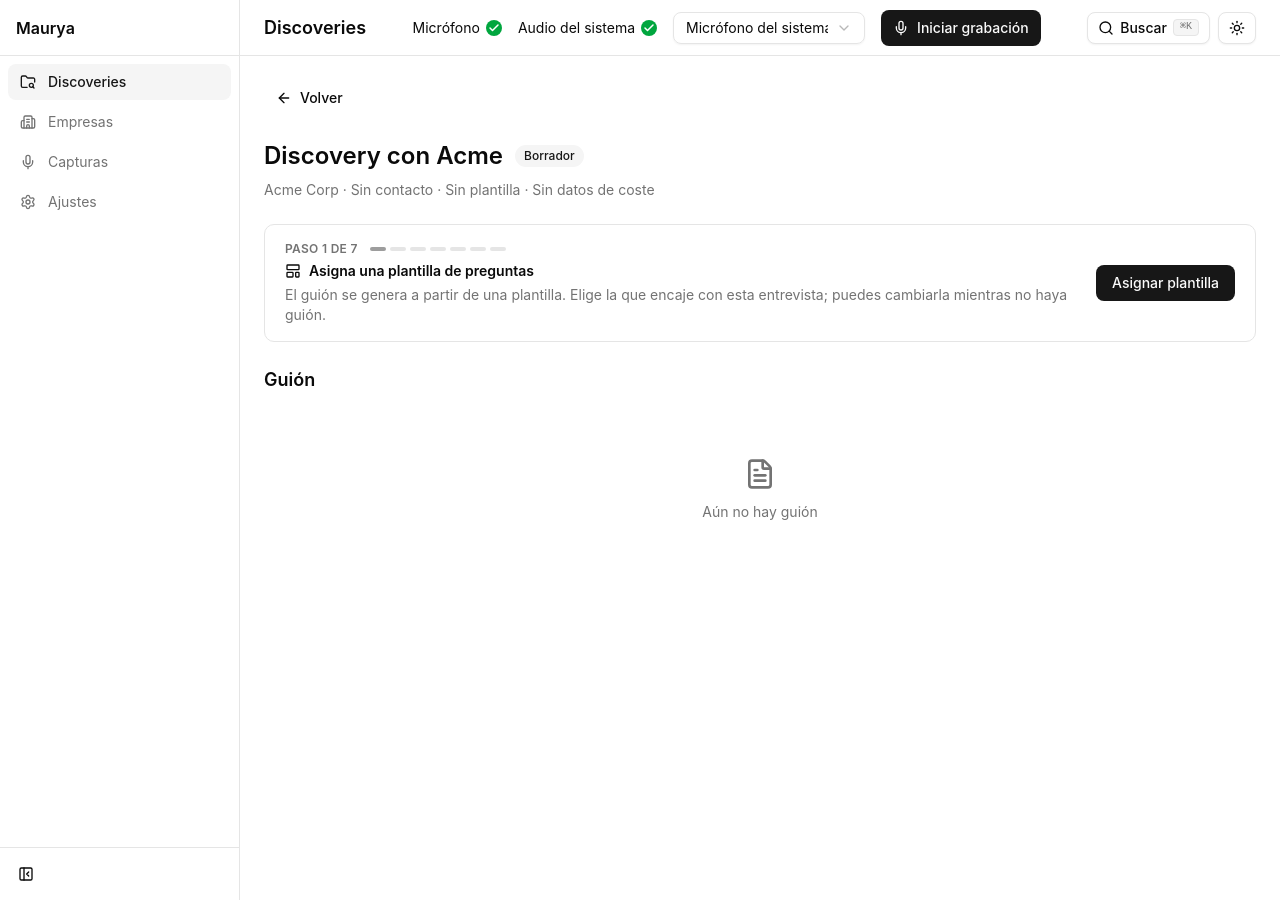
Test: DiscardReasonsDialog (motivos al finalizar SPEC-039) › opens the Preguntas descartadas dialog after stopping with each discarded question and an optional reason textarea
The image size is (1280, 900).
Click the button "Iniciar grabación": (961, 28) [881,10,1041,46]
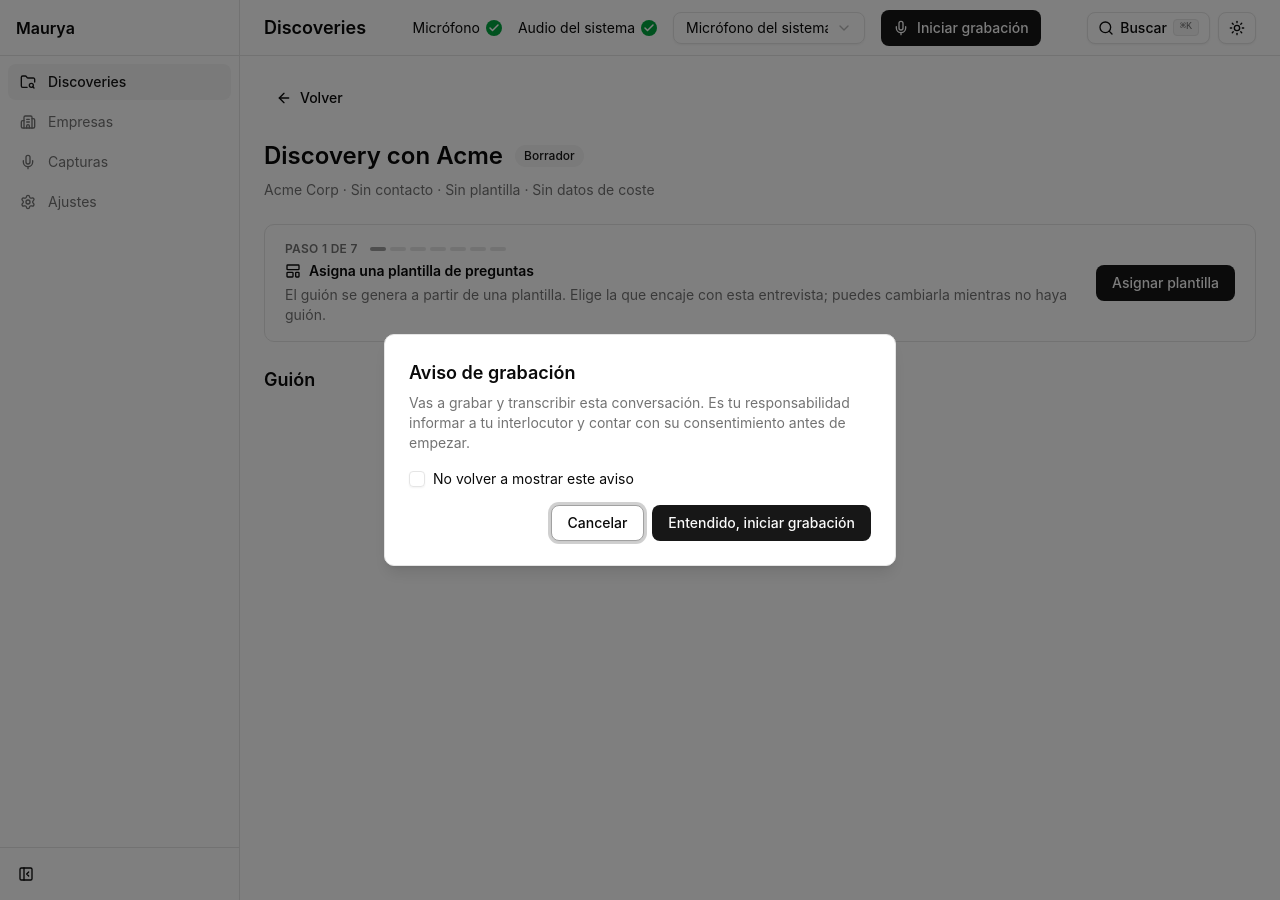
Click the button "Entendido, iniciar grabación": (762, 523) [652,505,871,541]
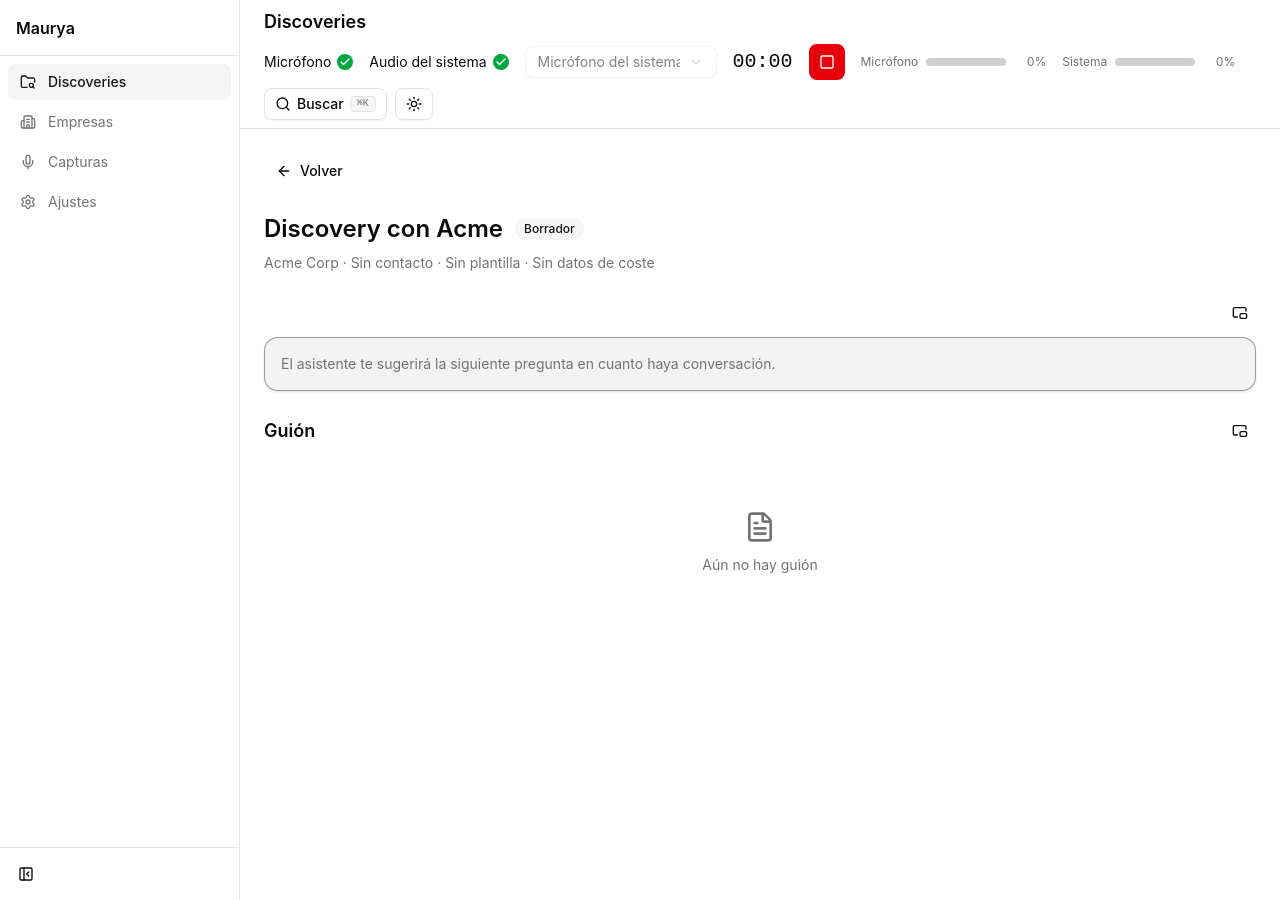
Check: the button named "Detener" is shown
Click the button named "Detener": (826, 62) [808,44,844,80]
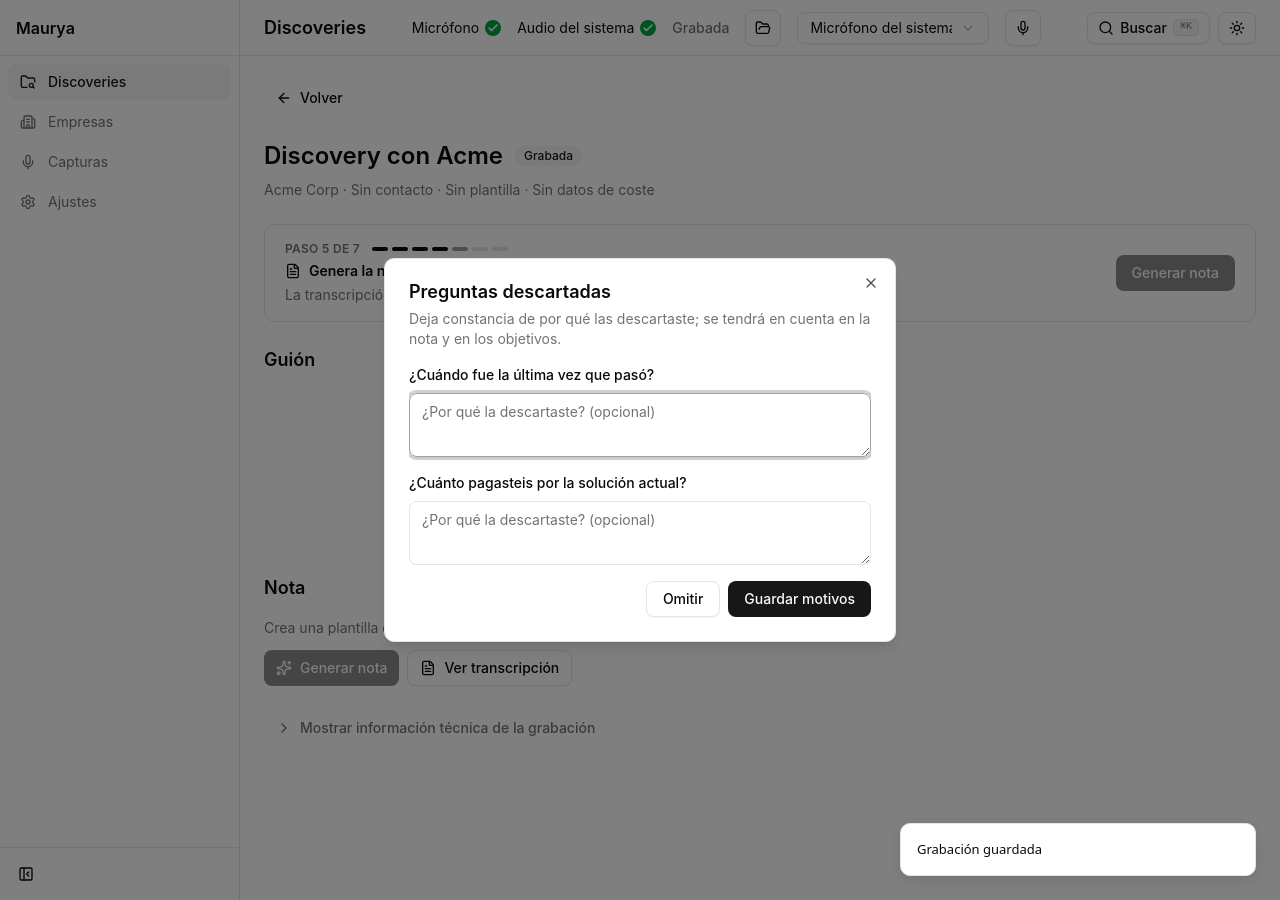
Check: the heading "Preguntas descartadas" is shown, box [409,281,611,302]
Check: the text "Deja constancia de por qué las descartaste; se tendrá en cuenta en la nota y en los objetivos." is shown, box [409,310,870,347]
Check: the text "¿Cuándo fue la última vez que pasó?" is shown, box [409,366,654,383]
